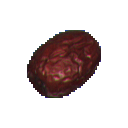gd: (4, 9, 124, 117)
